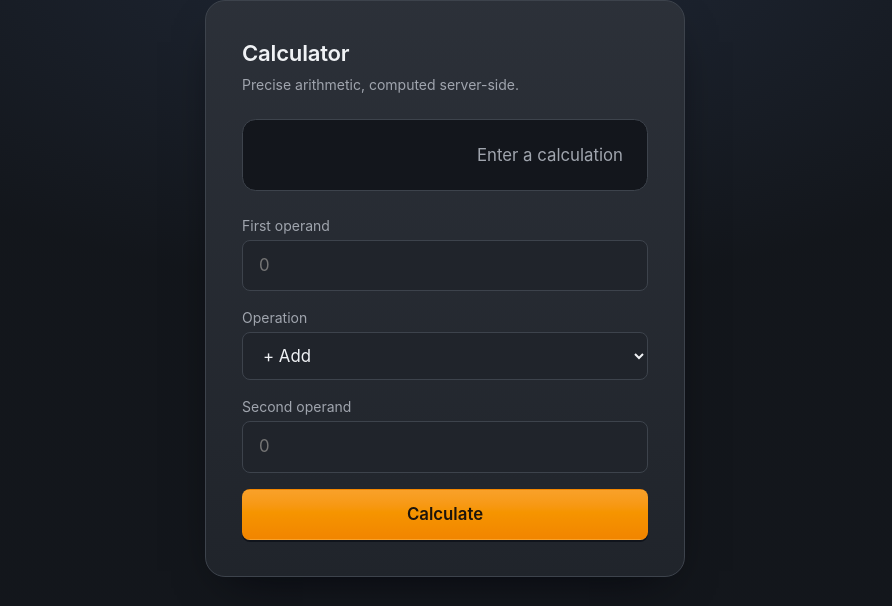
Calculator › shows a service-unavailable message when the backend cannot be reached
Type "2" into the field labelled "First operand" at (445, 266), box [242,240,648,291]
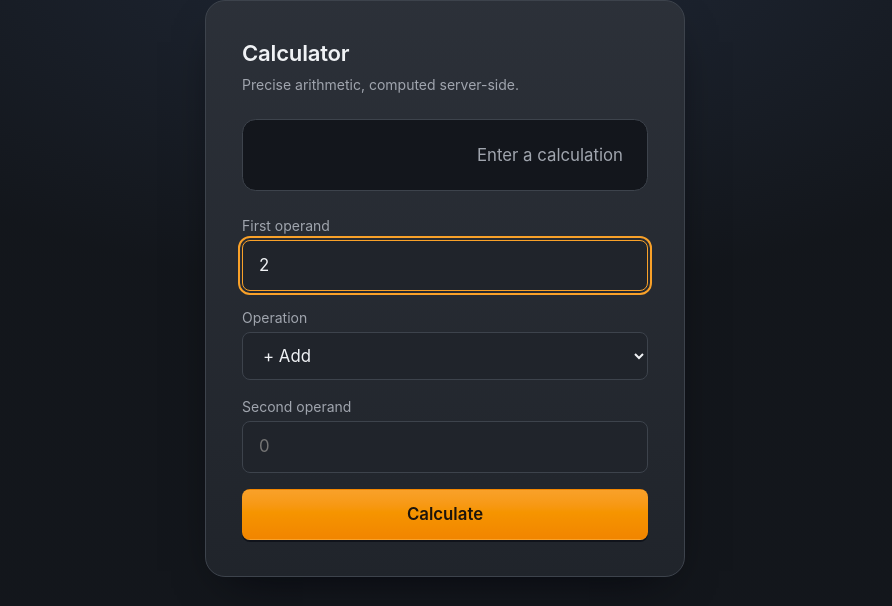
Select "+ Add" in the dropdown labelled "Operation" at (445, 356), box [242,332,648,380]
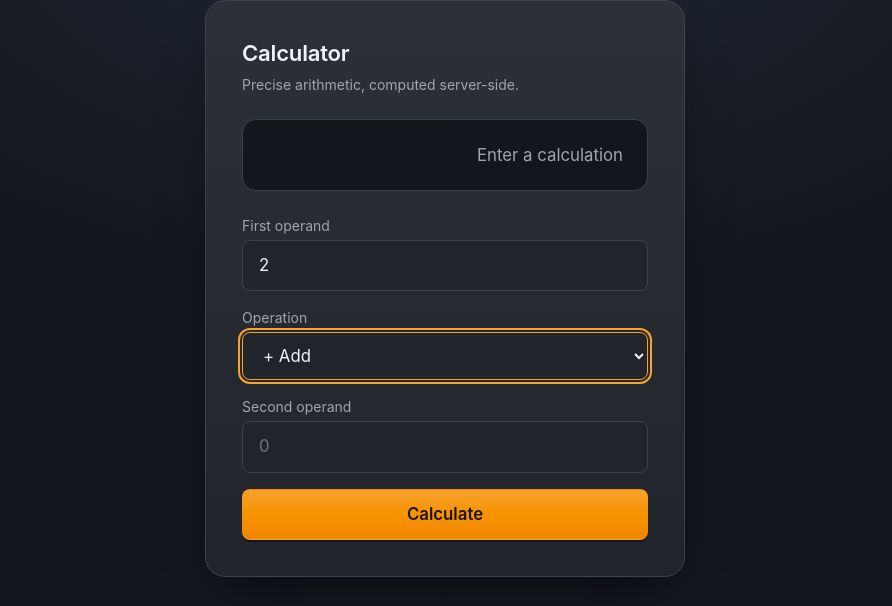
Type "2" into the field labelled "Second operand" at (445, 447), box [242,421,648,473]
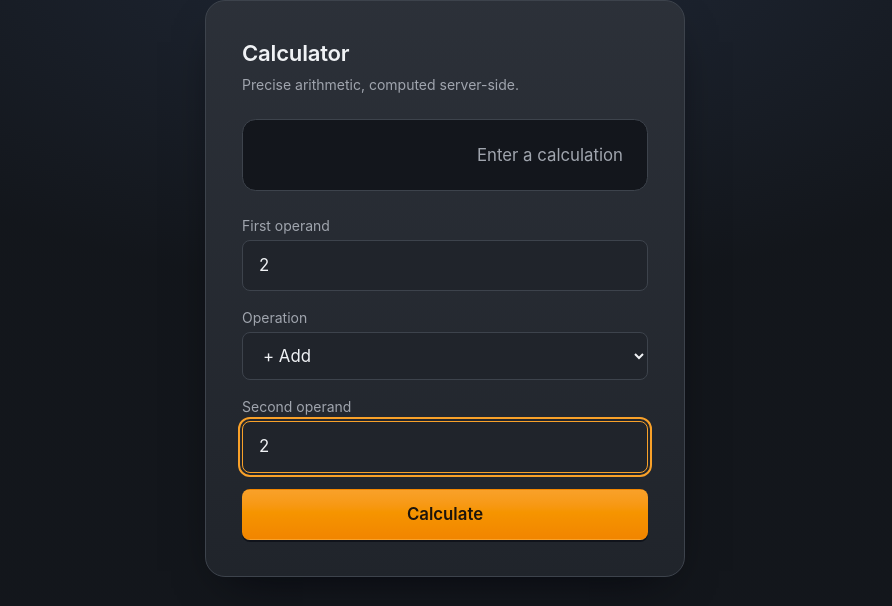
Click the button "Calculate" at (445, 514), box [242,489,648,540]
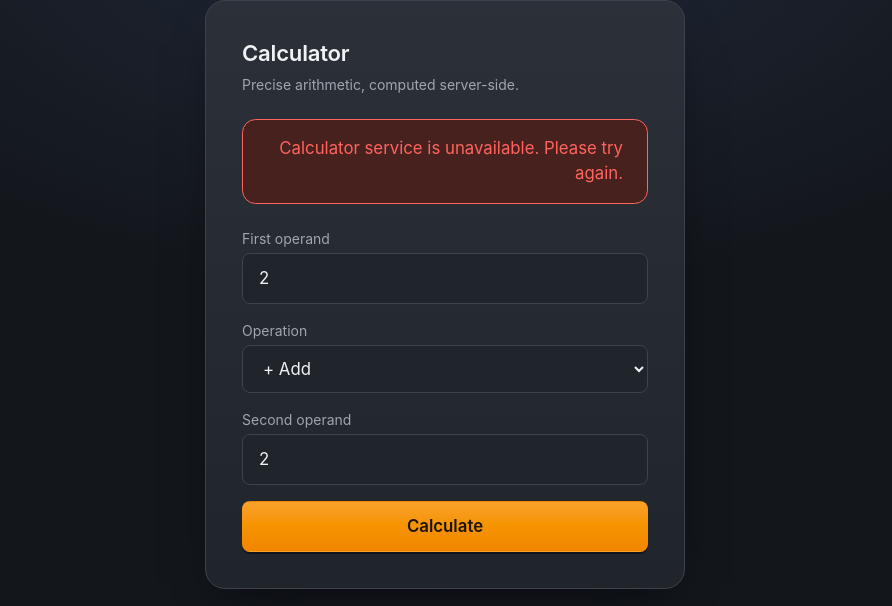
Expected: the text "Calculator service is unavailable. Please try again." is shown, [267,136,623,187]
